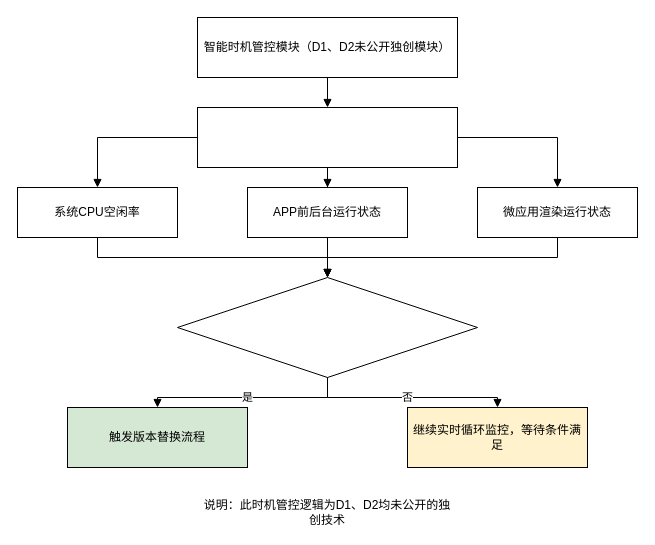
The diagram is 655 pixels wide and 545 high, and some of its shapes have lost their labels. The shapes that lost their labels are listed below. From the top down, each one's centre as x and y in pixels, then its label:
(x=327, y=137): 实时采集全维度状态数据
(x=327, y=327): 是否满足全部替换条件？ 1.CPU空闲率≥70% 2.APP切后台≥5s 3.微应用未处于渲染状态
